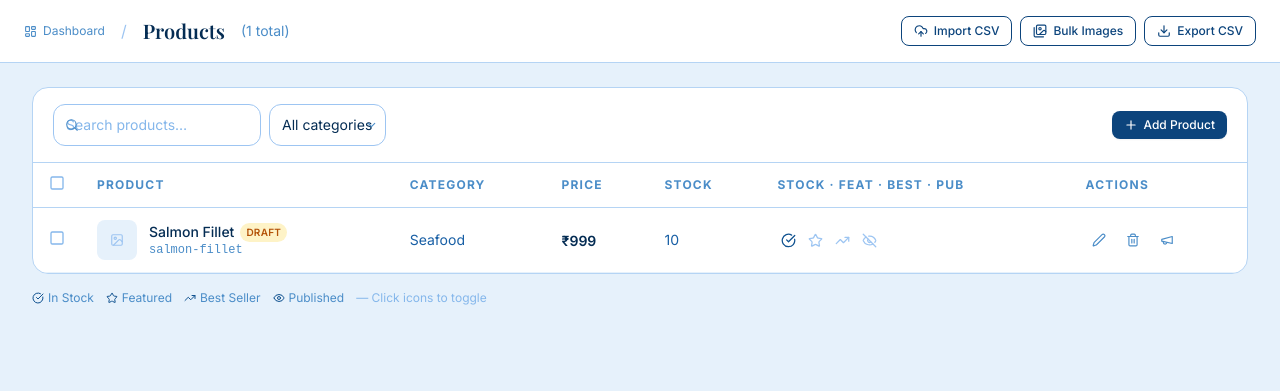
AdminProductsPage — bulk actions › selects a row and shows the bulk action bar
This screenshot has width=1280, height=391.
Expected: the text "Salmon Fillet" is shown, [149,222,234,242]
Click the button without text next to "Salmon Fillet" at [57, 238], box [49,230,65,246]
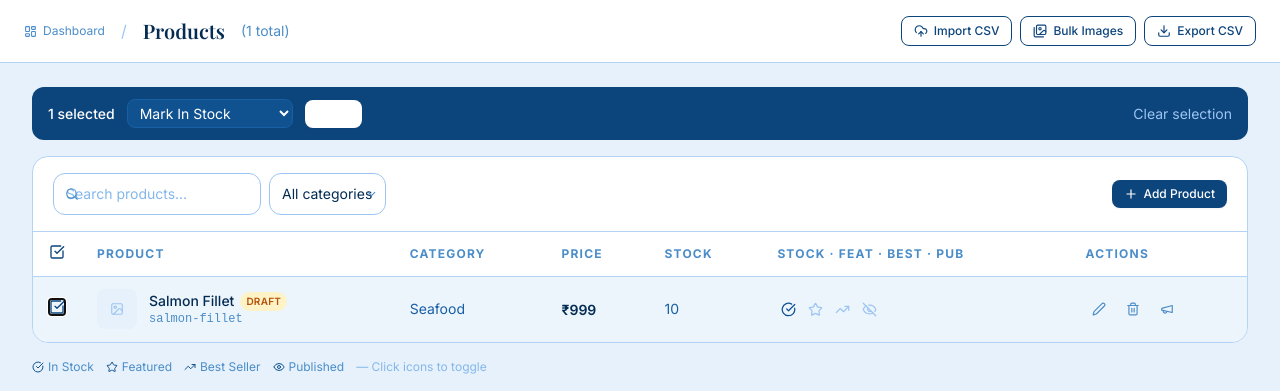
Result: the text "1 selected" is shown at [48,104,115,124]
